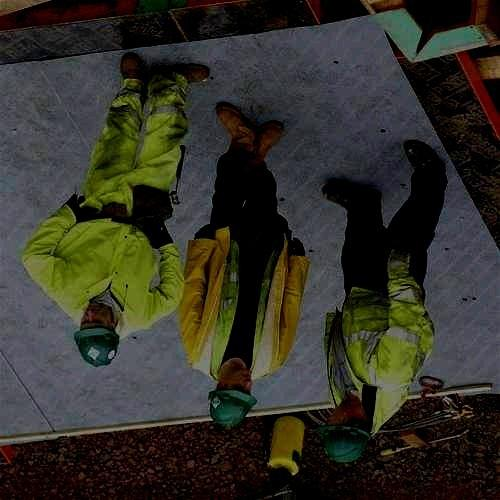helmet: (318, 397, 374, 464), (208, 367, 258, 430), (73, 303, 120, 368)
